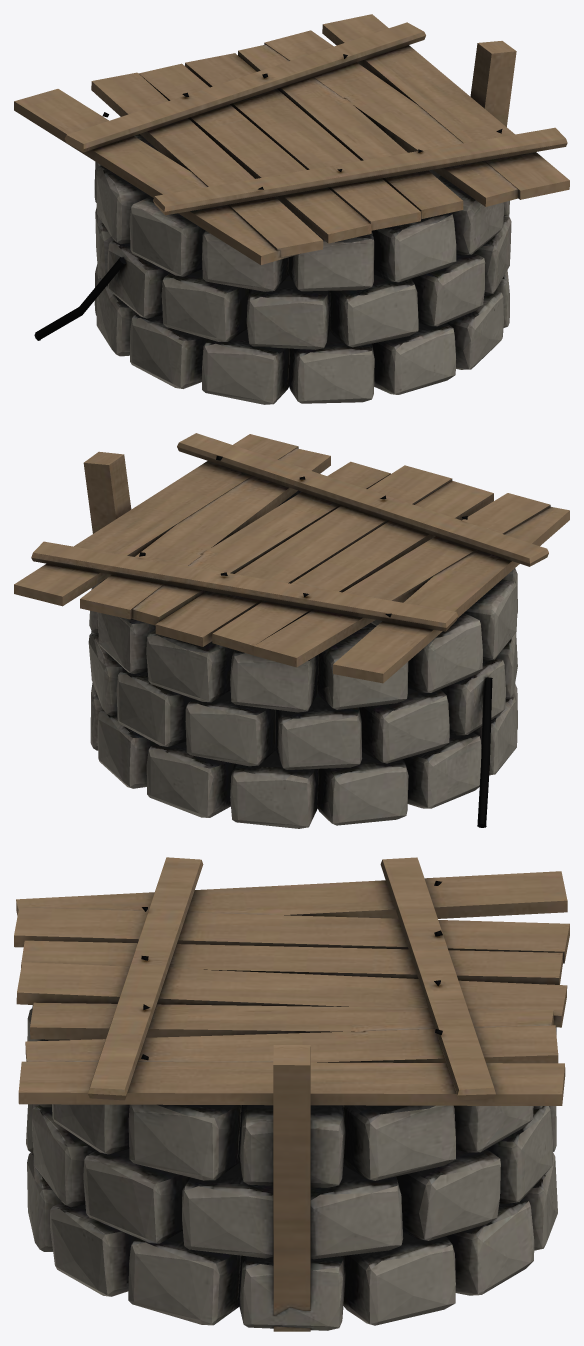
The model's file is mata_poco_tampado.glb.
The picture shows the model from 3 angles, top to bottom: view 1: azimuth 30°, elevation 25°; view 2: azimuth 150°, elevation 25°; view 3: azimuth 270°, elevation 25°; orthographic projection. The views are drawn at different scales.
Visible parts, largest first — view 1: mata_poco_tampado_tronco; view 2: mata_poco_tampado_tronco; view 3: mata_poco_tampado_tronco.
Boxes of the visible parts, left/top/right/bottom form: mata_poco_tampado_tronco: left=14, top=14, right=569, bottom=404; mata_poco_tampado_tronco: left=14, top=433, right=569, bottom=828; mata_poco_tampado_tronco: left=14, top=857, right=569, bottom=1331.
Bounding box in the file's own units: 2.16 × 1.1 × 1.9.
Materials: 1 (1 with a texture image).
